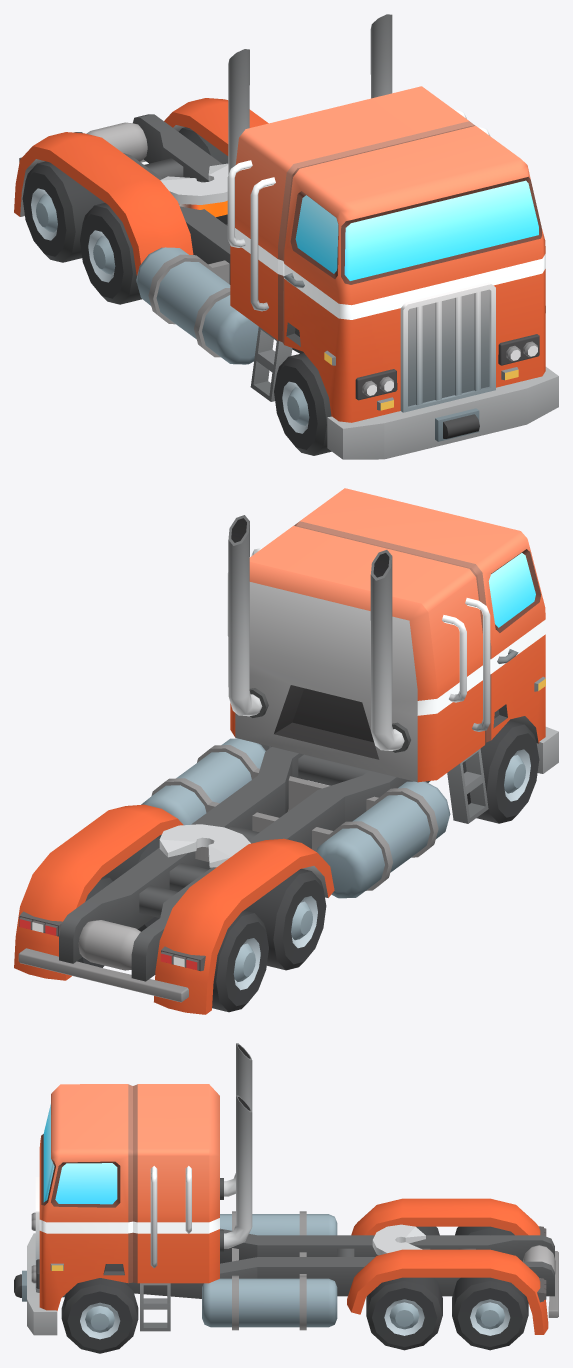
File: Truck_01.glb
The picture shows the model from 3 angles, top to bottom: view 1: azimuth 30°, elevation 25°; view 2: azimuth 150°, elevation 25°; view 3: azimuth 270°, elevation 25°; orthographic projection. The views are drawn at different scales.
Parts seen in each view (by area): view 1: Truck_01, Wheel_249, Wheel_251, Wheel_250, Wheel_254; view 2: Truck_01, Wheel_250, Wheel_251, Wheel_249, Wheel_253; view 3: Truck_01, Wheel_252, Wheel_253, Wheel_254, Wheel_249.
Boxes of the visible parts, <box> form: Truck_01: <box>14,14,558,459</box>; Wheel_249: <box>22,161,104,262</box>; Wheel_251: <box>274,353,331,455</box>; Wheel_250: <box>80,203,141,304</box>; Wheel_254: <box>179,127,228,164</box>; Truck_01: <box>14,488,558,1014</box>; Wheel_250: <box>244,868,326,970</box>; Wheel_251: <box>462,720,539,823</box>; Wheel_249: <box>212,910,268,1012</box>; Wheel_253: <box>104,834,161,931</box>; Truck_01: <box>14,1043,558,1335</box>; Wheel_252: <box>61,1278,138,1353</box>; Wheel_253: <box>366,1277,442,1350</box>; Wheel_254: <box>452,1277,528,1350</box>; Wheel_249: <box>455,1226,514,1235</box>.
Bounding box in the file's own units: 2.78 × 3.63 × 7.29.
2 materials, 2 textured.
